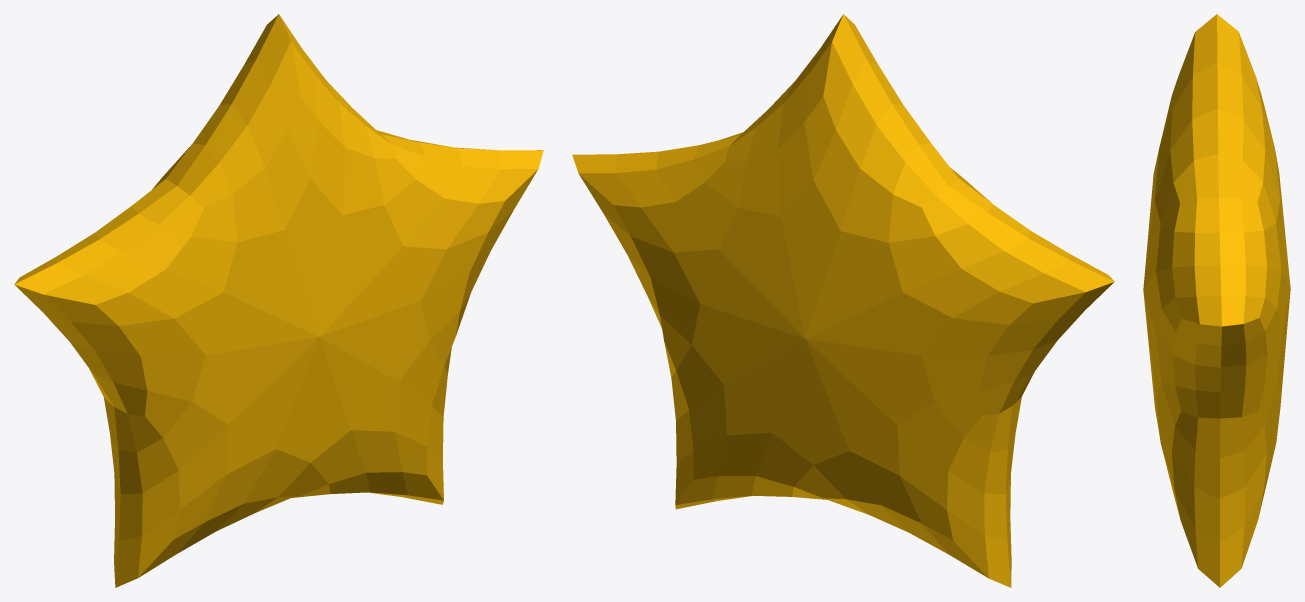
File: BonusVer1.1.fbx
3 renders of one model, left to right at view 1: azimuth 30°, elevation 25°; view 2: azimuth 150°, elevation 25°; view 3: azimuth 270°, elevation 25°, orthographic. The views are drawn at different scales.
Visible parts, largest first — view 1: Star; view 2: Star; view 3: Star.
Boxes of the visible parts, box(x1,y1,x2,y2) form: Star: box(14, 14, 543, 587); Star: box(572, 14, 1114, 587); Star: box(1143, 14, 1290, 587).
Size of the model in its own units: 156 by 149 by 39.88.
1 material, 1 textured.
